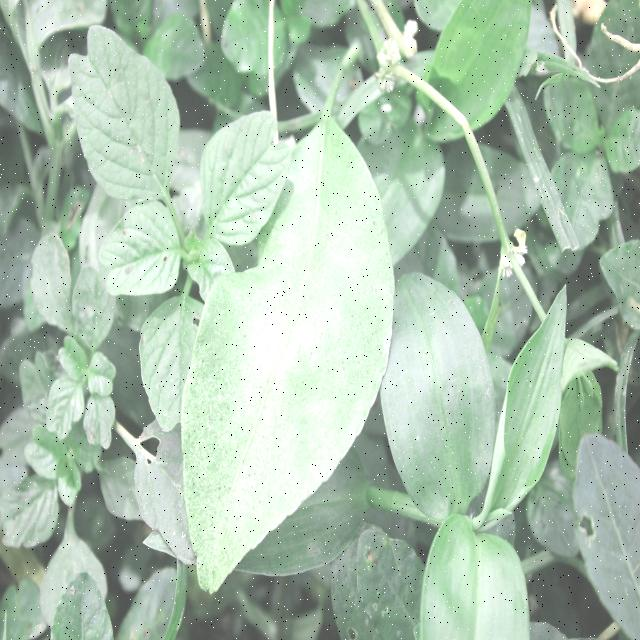blackspot: (188, 199, 385, 556)
